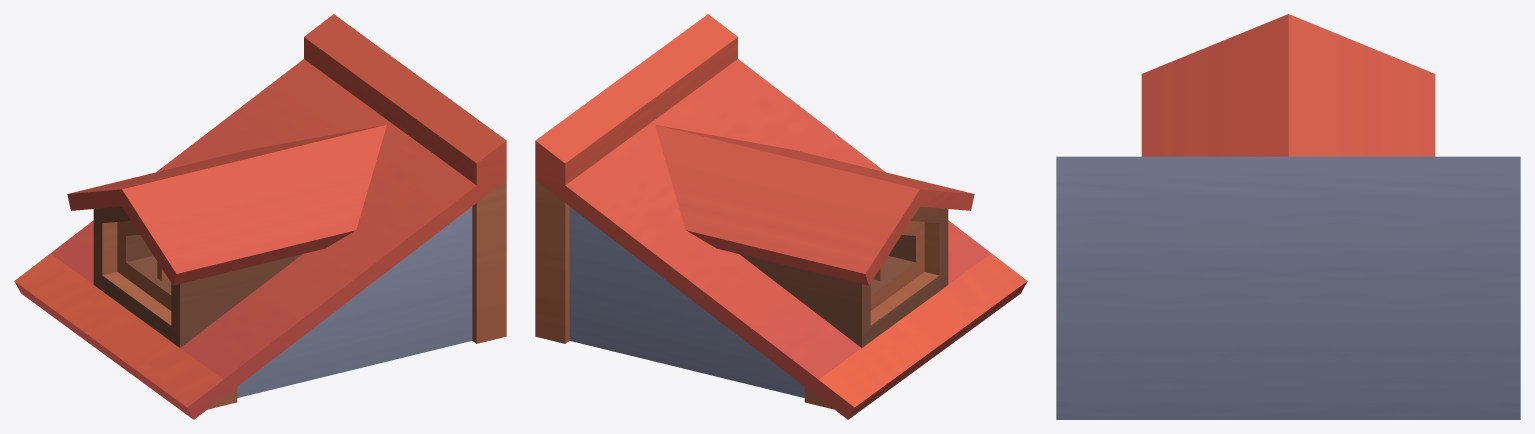
File: roofWindow.fbx
3 views of the same model, side by side, from view 1: azimuth 30°, elevation 25°; view 2: azimuth 150°, elevation 25°; view 3: azimuth 270°, elevation 25° (orthographic). The views are drawn at different scales.
Visible parts, largest first — view 1: roofWindow; view 2: roofWindow; view 3: roofWindow.
Part boxes in pixels (x1,y1,x2,y2): roofWindow: (14, 14, 506, 419); roofWindow: (535, 14, 1027, 419); roofWindow: (1056, 14, 1520, 419).
Size of the model in its own units: 1.07 by 1 by 0.6483.
